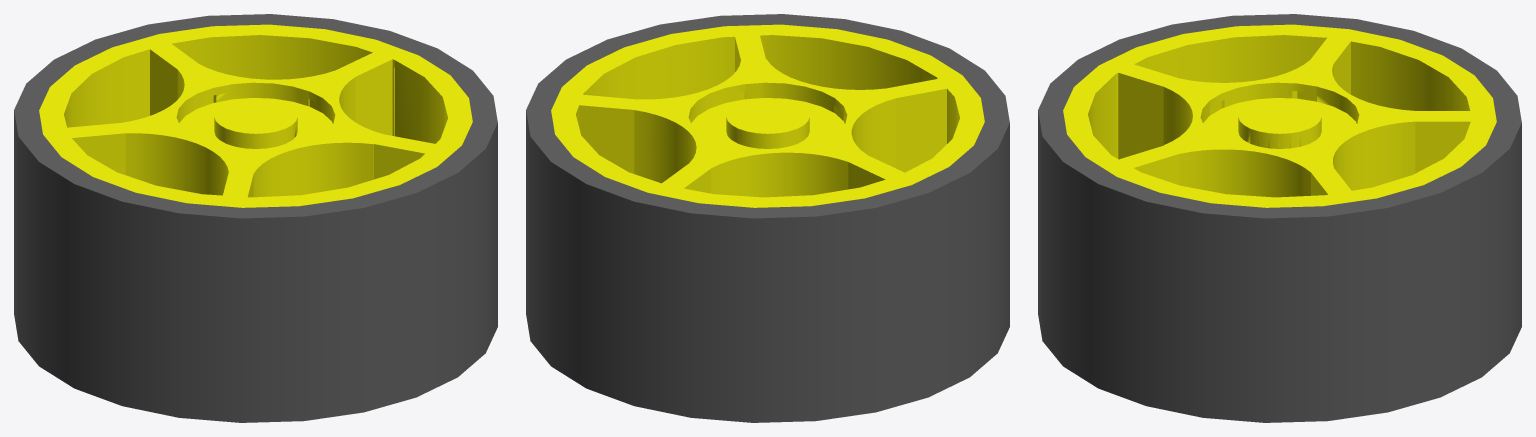
File: wheel.dae
3 renders of one model, left to right at view 1: azimuth 30°, elevation 25°; view 2: azimuth 150°, elevation 25°; view 3: azimuth 270°, elevation 25°, orthographic.
Visible parts, largest first — view 1: instance_0_001, instance_1, instance_1_002, instance_1_003, instance_1_001; view 2: instance_0_001, instance_1, instance_1_002, instance_1_003, instance_1_001; view 3: instance_0_001, instance_1, instance_1_002, instance_1_003, instance_1_001.
Boxes of the visible parts, left/top/right/bottom form: instance_0_001: left=14, top=14, right=497, bottom=422; instance_1: left=64, top=35, right=447, bottom=197; instance_1_002: left=39, top=24, right=472, bottom=207; instance_1_003: left=176, top=82, right=335, bottom=149; instance_1_001: left=214, top=98, right=297, bottom=148; instance_0_001: left=526, top=14, right=1009, bottom=422; instance_1: left=576, top=35, right=959, bottom=197; instance_1_002: left=551, top=24, right=984, bottom=207; instance_1_003: left=688, top=82, right=847, bottom=149; instance_1_001: left=726, top=98, right=809, bottom=148; instance_0_001: left=1038, top=14, right=1521, bottom=422; instance_1: left=1088, top=35, right=1471, bottom=197; instance_1_002: left=1063, top=24, right=1496, bottom=207; instance_1_003: left=1200, top=82, right=1359, bottom=149; instance_1_001: left=1238, top=98, right=1321, bottom=148.
Size of the model in its own units: 0.0579 by 0.0579 by 0.032.
